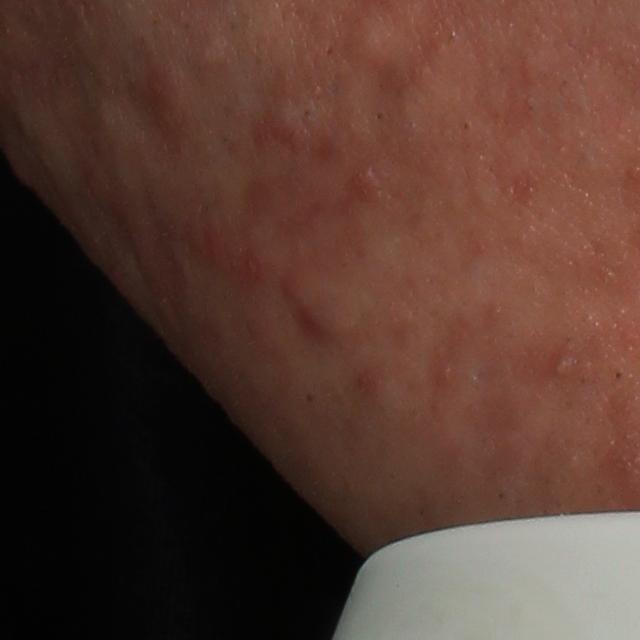hypertrophic_scar: (337, 14, 413, 67), (189, 22, 238, 77)
papule: (287, 292, 343, 347), (140, 64, 180, 116), (350, 165, 378, 203)
